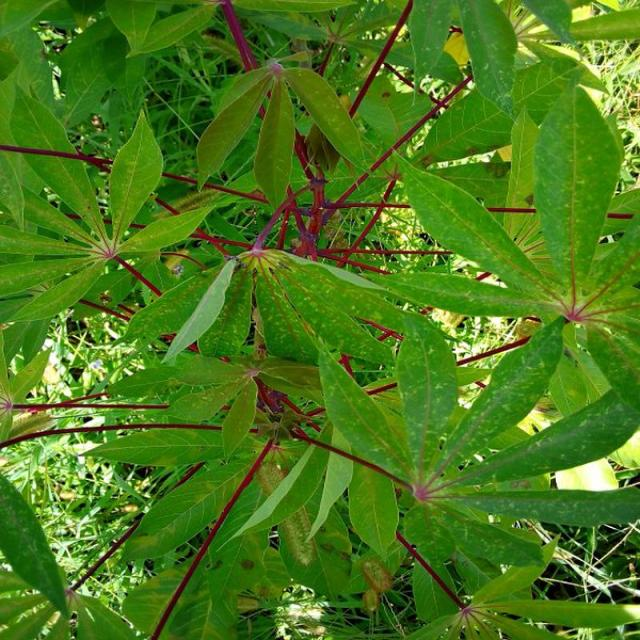cassava leaf: (2, 1, 640, 638), (532, 79, 626, 296)
